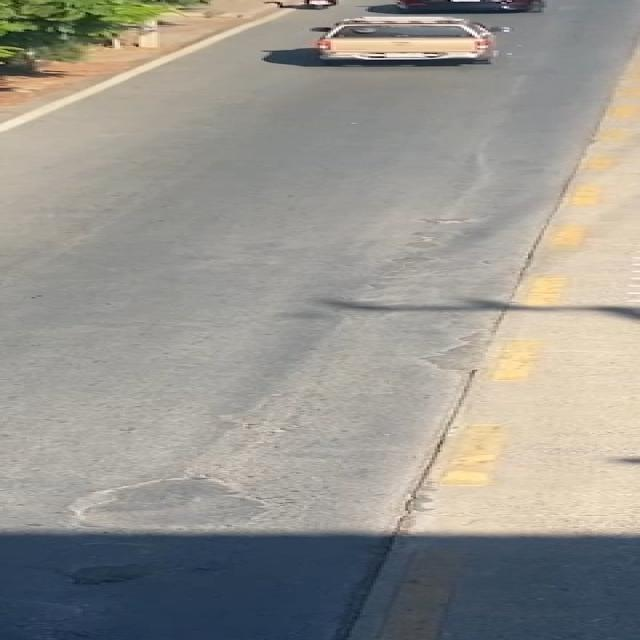car: (301, 14, 518, 67)
